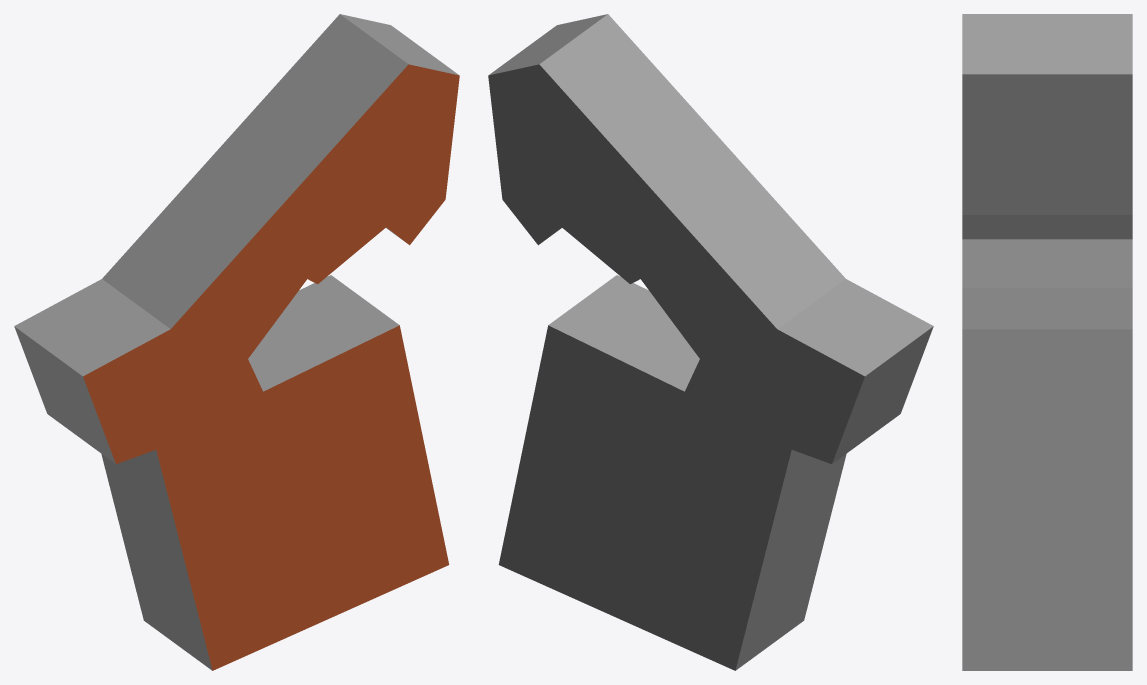
The model's file is construction_4571_assumed_A_Casa_h6m.obj.
3 views of the same model, side by side, from view 1: azimuth 30°, elevation 25°; view 2: azimuth 150°, elevation 25°; view 3: azimuth 270°, elevation 25° (orthographic). The views are drawn at different scales.
Visible parts, largest first — view 1: construction_4571_assumed_A_Casa; view 2: construction_4571_assumed_A_Casa; view 3: construction_4571_assumed_A_Casa.
Part boxes in pixels (box(x1,y1,x2,y2)): construction_4571_assumed_A_Casa: box(14, 14, 459, 670); construction_4571_assumed_A_Casa: box(488, 14, 933, 670); construction_4571_assumed_A_Casa: box(962, 14, 1132, 670).
Bounding box in the file's own units: 18.98 × 26.89 × 6.
